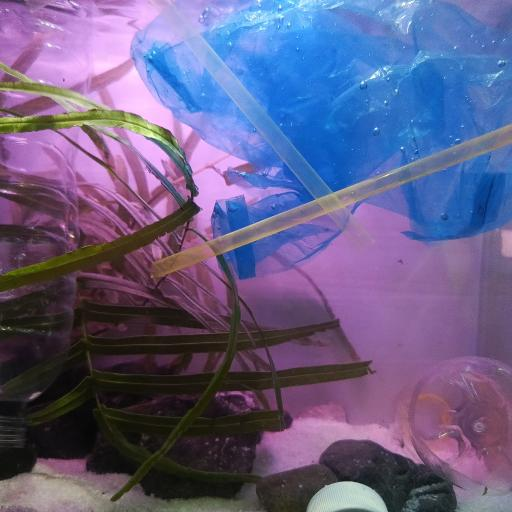bottle_cap: (307, 480, 391, 512)
plastic_bag: (129, 1, 512, 278)
plastic_bottle: (2, 0, 90, 437), (398, 355, 512, 495)
plastic_straw: (149, 124, 512, 276), (153, 0, 374, 245)
